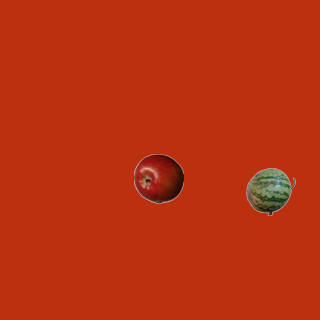Apple Braeburn: (133, 153, 183, 203)
Watermelon: (245, 166, 295, 216)
